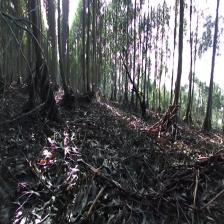trunk: (202, 12, 218, 128), (169, 11, 183, 114), (29, 0, 46, 70), (57, 12, 70, 92)
